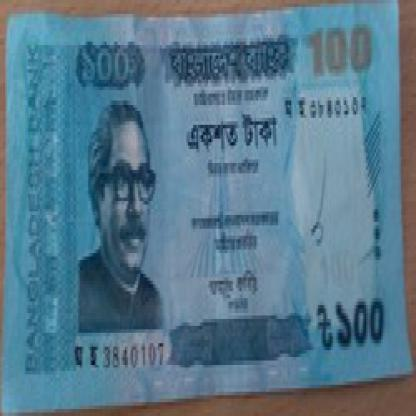one hundred taka: (305, 18, 381, 84), (74, 31, 142, 94), (332, 288, 394, 354)
